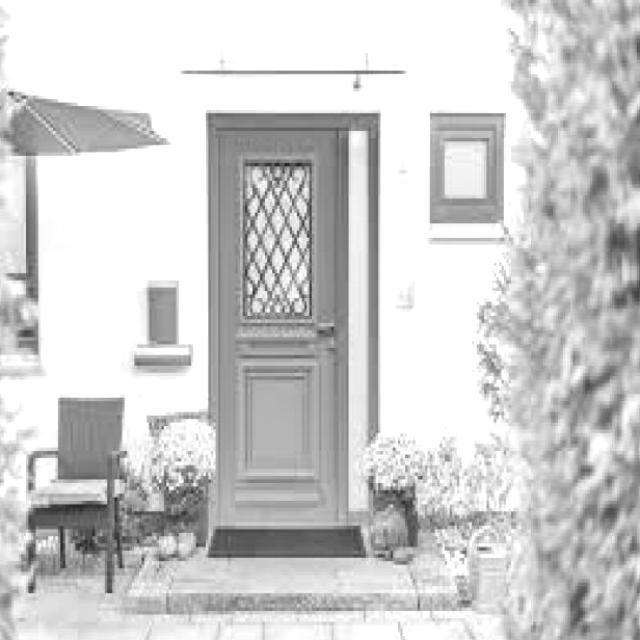door: (209, 117, 358, 531)
